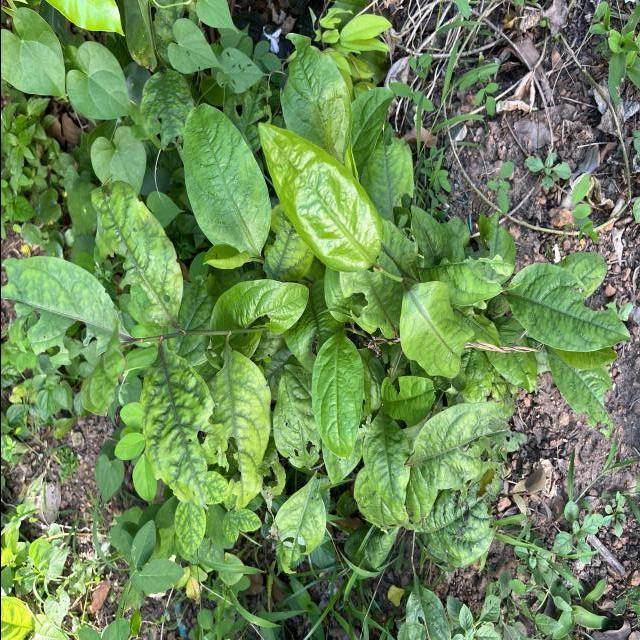Plumbago indica: (255, 117, 383, 276), (180, 100, 272, 262), (87, 177, 183, 329), (502, 260, 632, 354), (308, 329, 365, 462), (360, 406, 410, 516)
